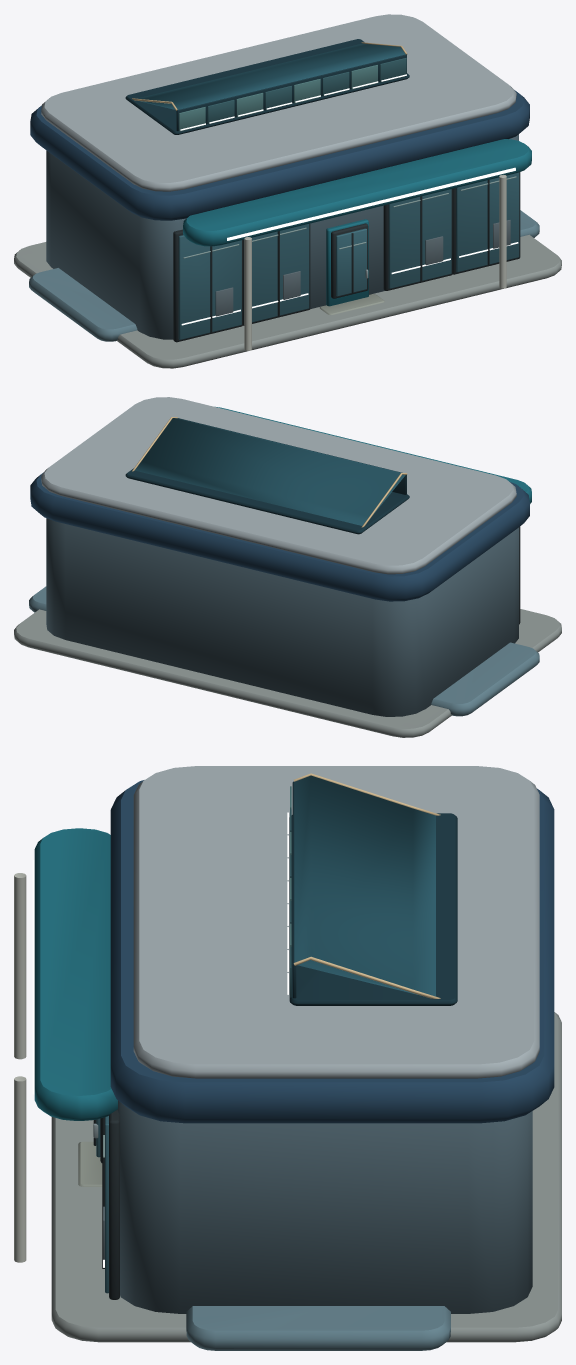
The model's file is metro_dealership.glb.
3 views of the same model, one above another, from view 1: azimuth 30°, elevation 25°; view 2: azimuth 150°, elevation 25°; view 3: azimuth 270°, elevation 25° (orthographic). The views are drawn at different scales.
Visible parts, largest first — view 1: Dealership; view 2: Dealership; view 3: Dealership.
Part boxes in pixels (x1,y1,x2,y2): Dealership: (14,14,561,368); Dealership: (14,397,561,737); Dealership: (14,766,561,1350).
Bounding box in the file's own units: 12.06 × 4.99 × 7.9.
